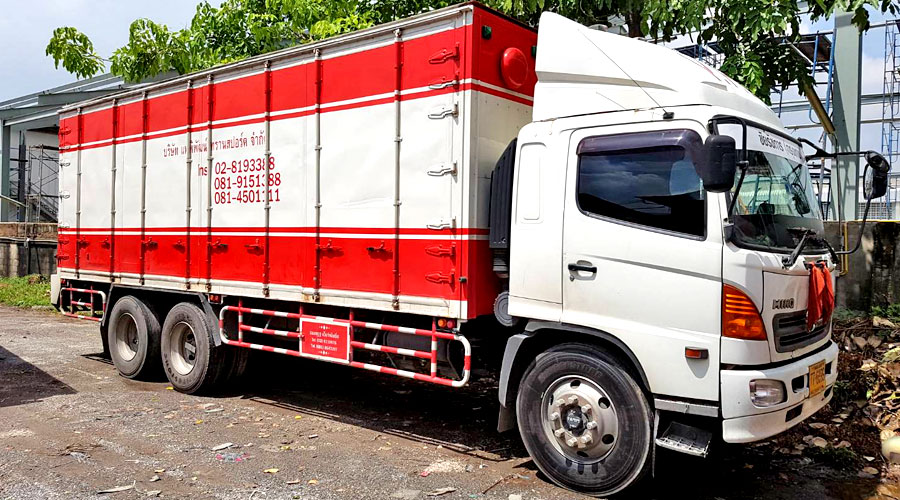truck: (55, 5, 839, 487)
